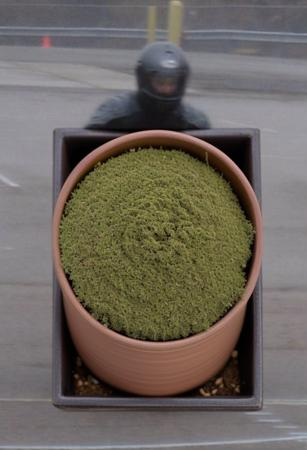person: (72, 42, 246, 396)
person/foot: (199, 360, 235, 396), (77, 289, 102, 327)
person/hand: (91, 164, 130, 192), (213, 176, 244, 203)
person/head: (137, 43, 190, 113)
pottedplant: (52, 128, 262, 411)
